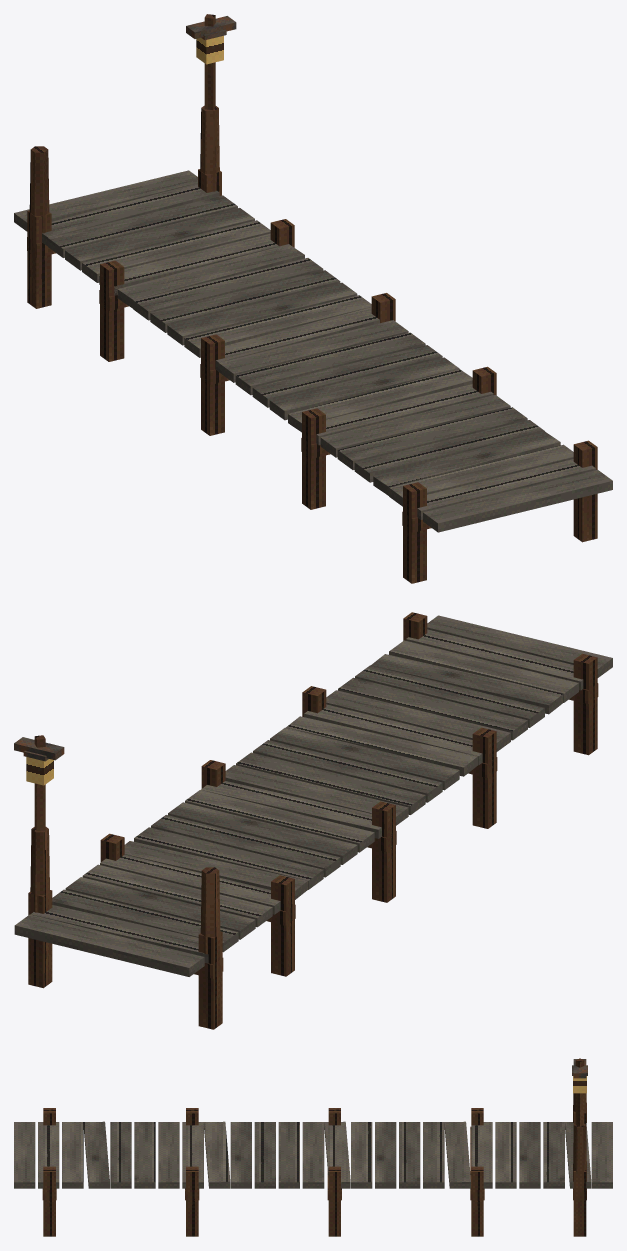
Rendered from muelle.obj.
3 renders of one model, top to bottom at view 1: azimuth 30°, elevation 25°; view 2: azimuth 150°, elevation 25°; view 3: azimuth 270°, elevation 25°, orthographic. The views are drawn at different scales.
Parts seen in each view (by area): view 1: muelle; view 2: muelle; view 3: muelle.
Part boxes in pixels (x1,y1,x2,y2): muelle: (14,14,612,583); muelle: (14,612,612,1029); muelle: (14,1058,612,1236).
Size of the model in its own units: 1.83 by 2.15 by 6.72.
Materials: 4 (4 with a texture image).
